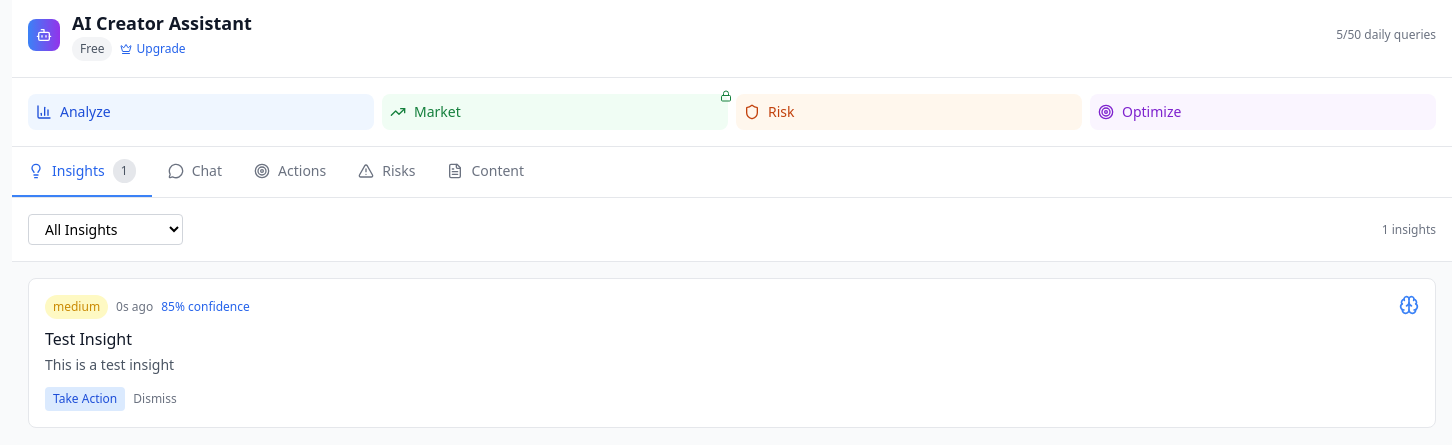
it: AIAssistantInterface › switches tabs correctly
Click the button "Chat": (195, 172) [152, 147, 238, 197]
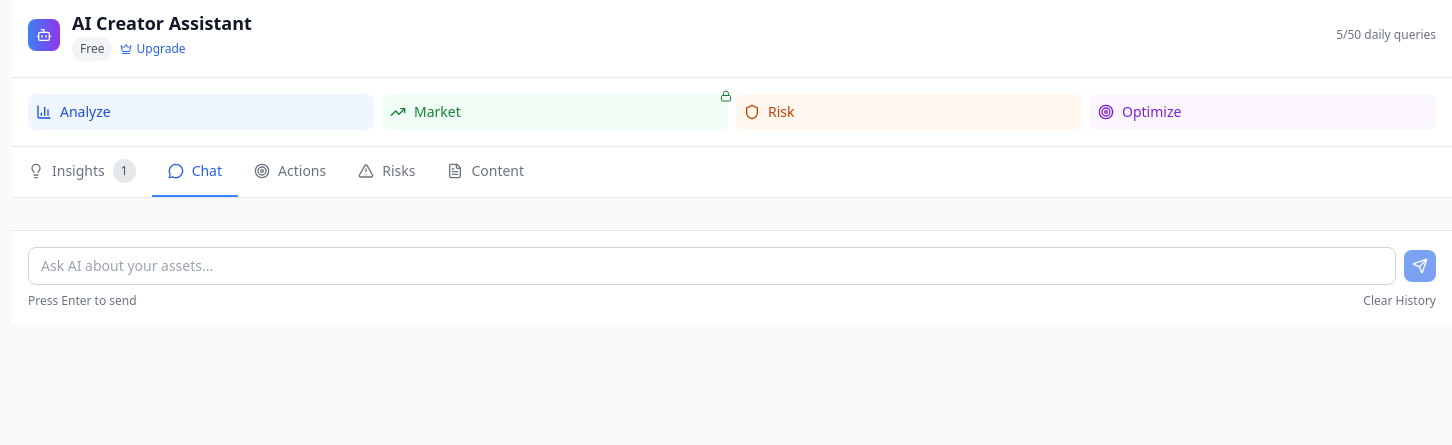
Check: the field with placeholder "Ask AI about your assets..." is shown, box [28, 247, 1396, 285]
